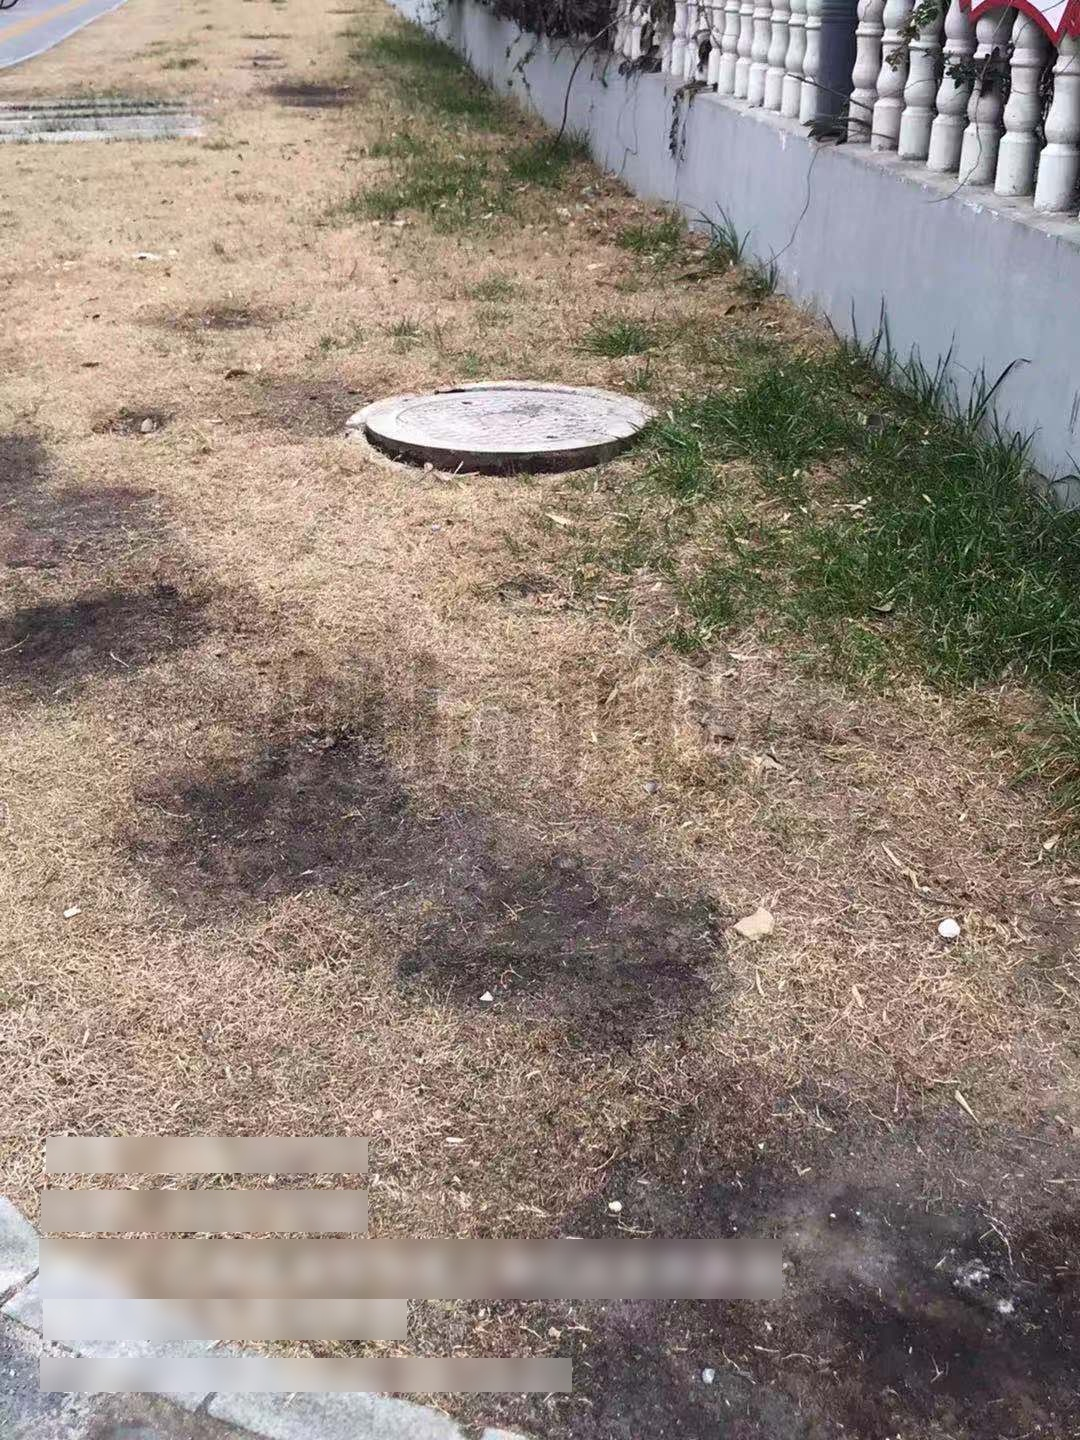uncovered: (358, 381, 661, 483)
